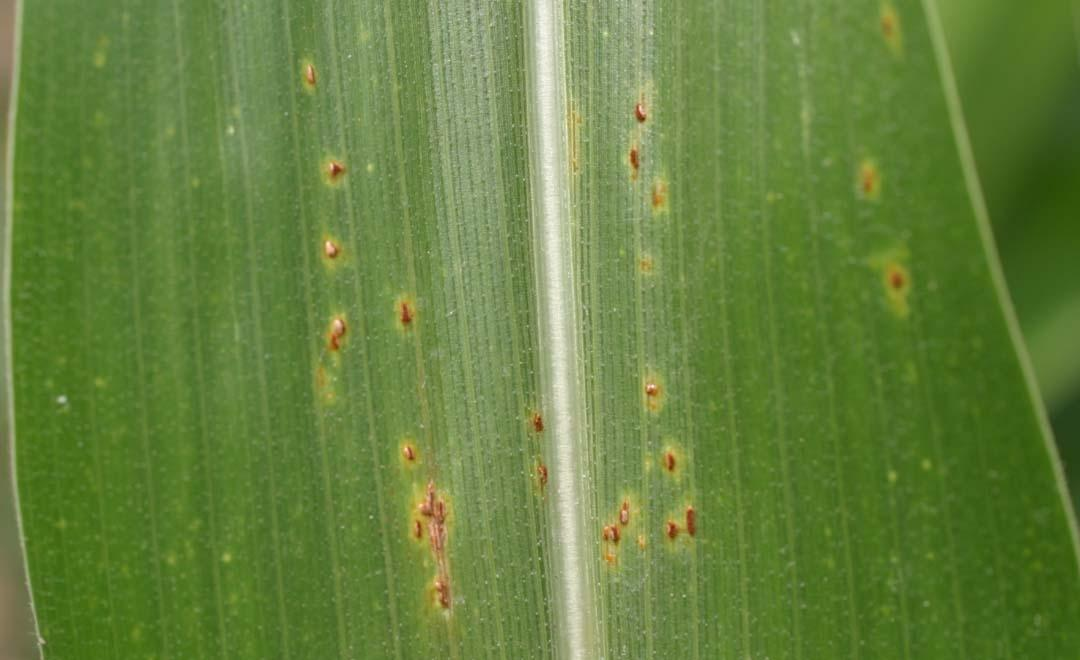Corn_Common_Rust: (579, 61, 695, 286), (387, 436, 491, 649), (500, 356, 575, 509), (316, 298, 375, 419), (859, 247, 942, 333), (62, 31, 142, 106), (836, 123, 892, 219), (390, 255, 443, 354), (271, 56, 359, 112), (327, 139, 391, 214), (859, 7, 942, 61), (287, 230, 367, 273)
